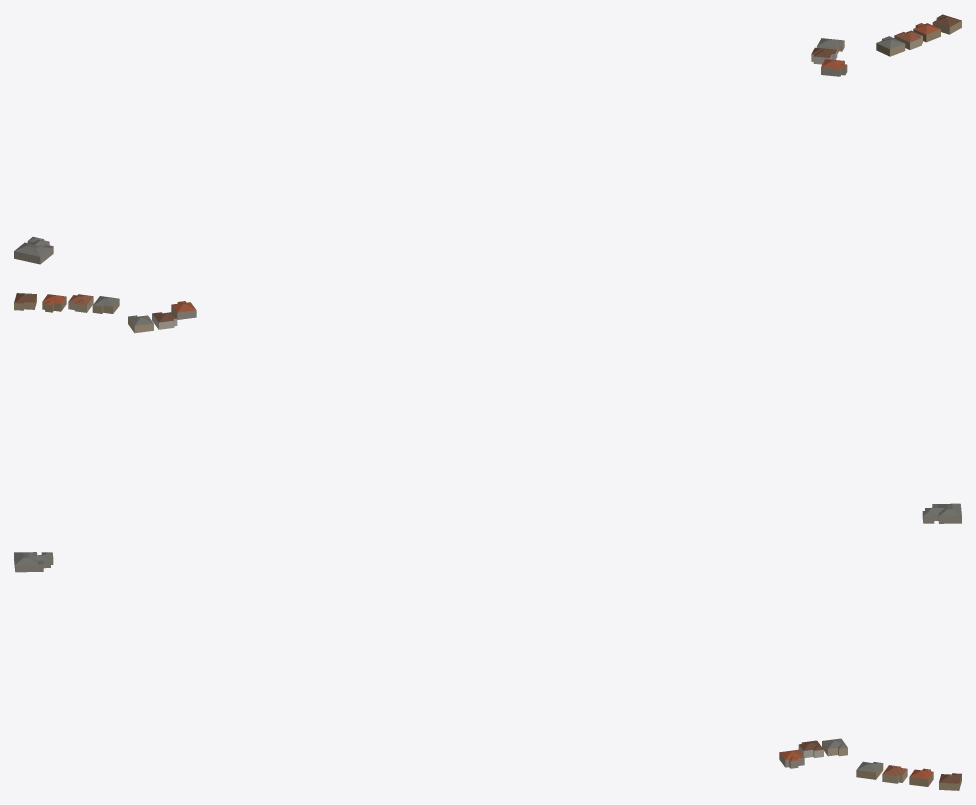
The picture shows the model from 3 angles, top to bottom: view 1: azimuth 30°, elevation 25°; view 2: azimuth 150°, elevation 25°; view 3: azimuth 330°, elevation 25°; orthographic projection.
Parts seen in each view (by area): view 1: buildings_r7_c4_lod1; view 2: buildings_r7_c4_lod1; view 3: buildings_r7_c4_lod1.
Boxes of the visible parts, x1,y1,x2,y2 form: buildings_r7_c4_lod1: (14, 14, 961, 264); buildings_r7_c4_lod1: (14, 293, 961, 523); buildings_r7_c4_lod1: (14, 552, 961, 790).
Bounding box in the file's own units: 886 × 15.93 × 61.38.
